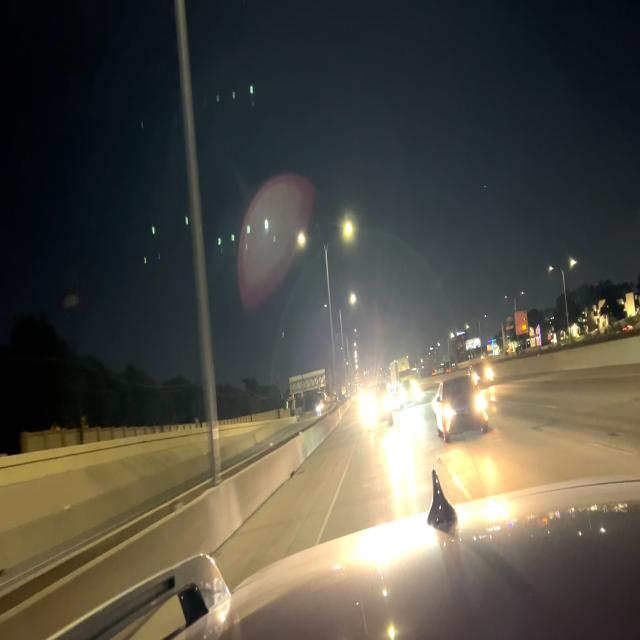back-of-sign: (287, 368, 326, 400)
